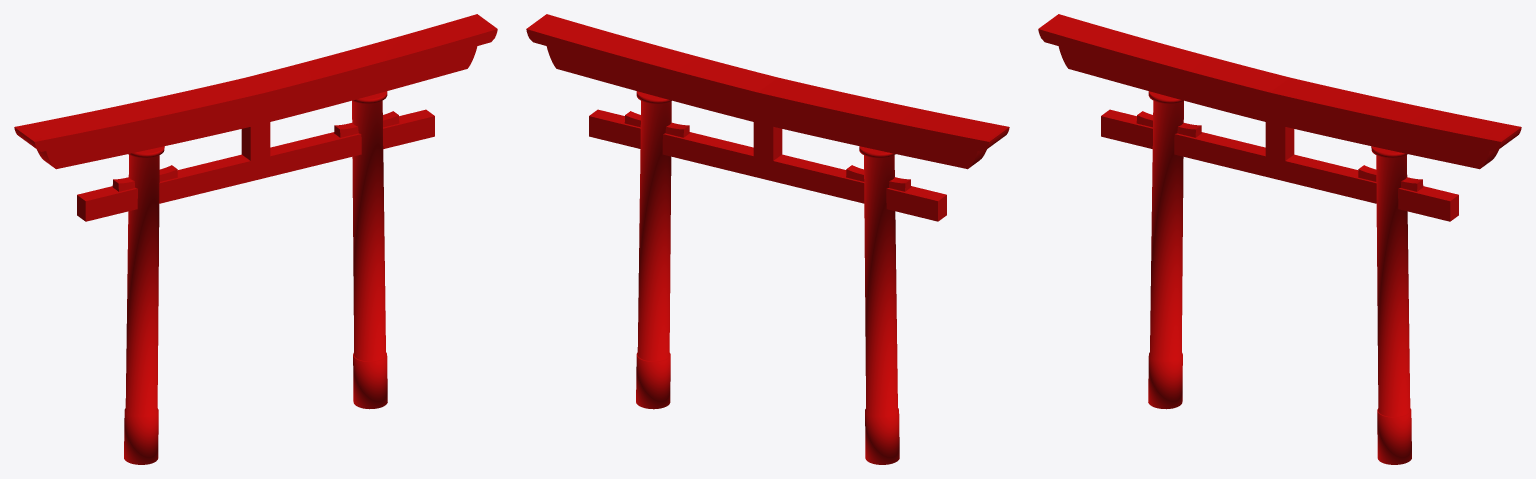
File: torii.obj
The picture shows the model from 3 angles, left to right: view 1: azimuth 30°, elevation 25°; view 2: azimuth 150°, elevation 25°; view 3: azimuth 330°, elevation 25°; orthographic projection.
Visible parts, largest first — view 1: Cylinder; view 2: Cylinder; view 3: Cylinder.
Boxes of the visible parts, x1=… form: Cylinder: x1=14, y1=14, x2=497, y2=464; Cylinder: x1=526, y1=14, x2=1009, y2=464; Cylinder: x1=1038, y1=14, x2=1521, y2=464.
Size of the model in its own units: 7.35 by 5.34 by 0.5624.
